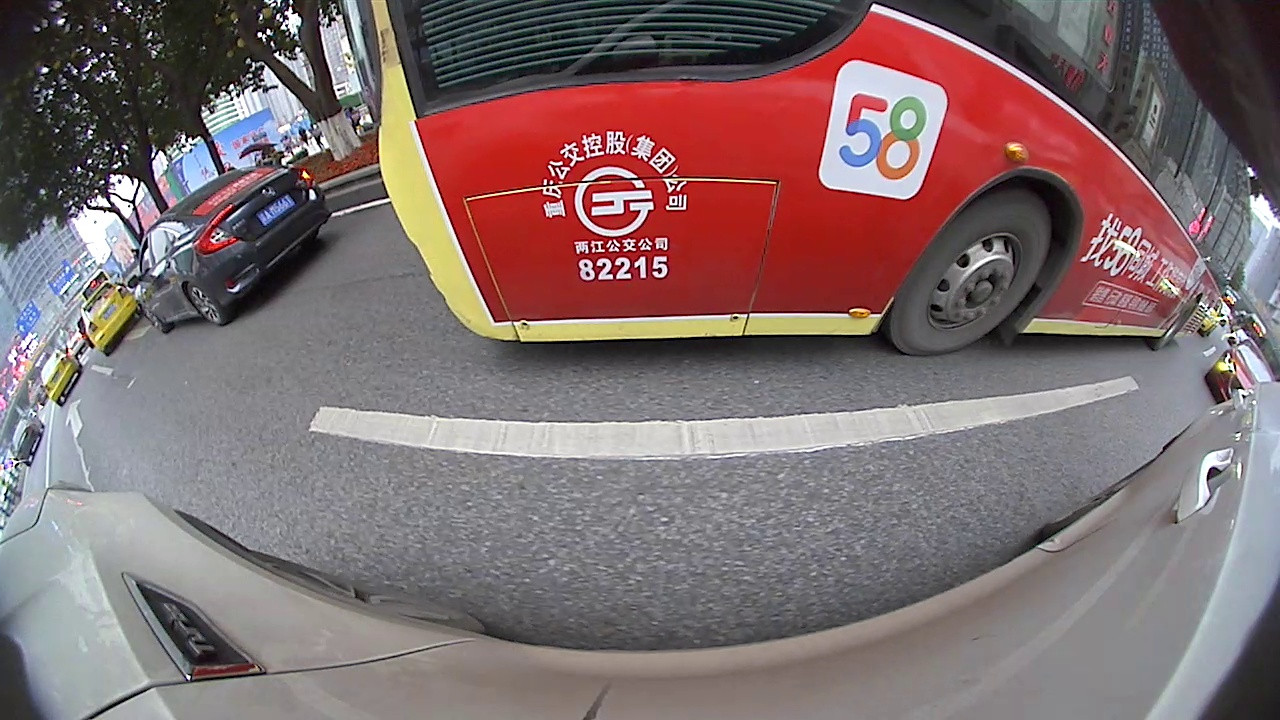bus: (339, 2, 1259, 364)
car: (124, 159, 337, 340), (73, 276, 150, 356), (1200, 335, 1275, 408), (32, 353, 90, 407)
front: (886, 185, 1057, 357), (144, 310, 175, 335)
rear: (1152, 297, 1201, 353), (181, 284, 228, 327)
